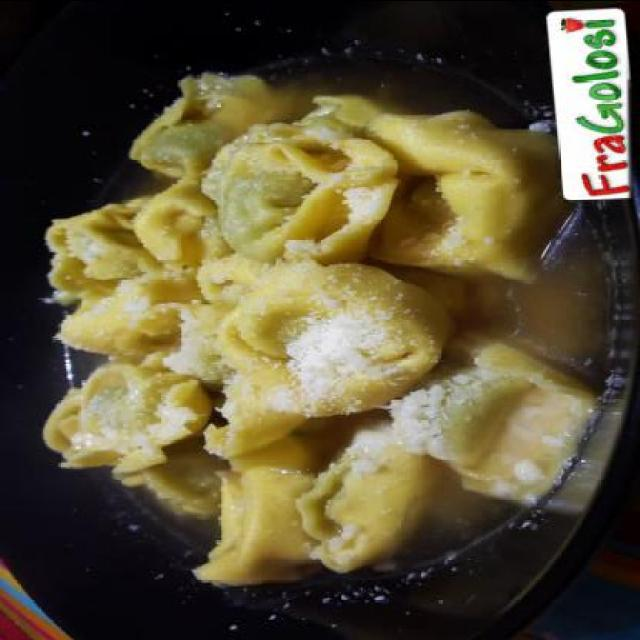Tortellini in broth: (32, 60, 550, 566)
